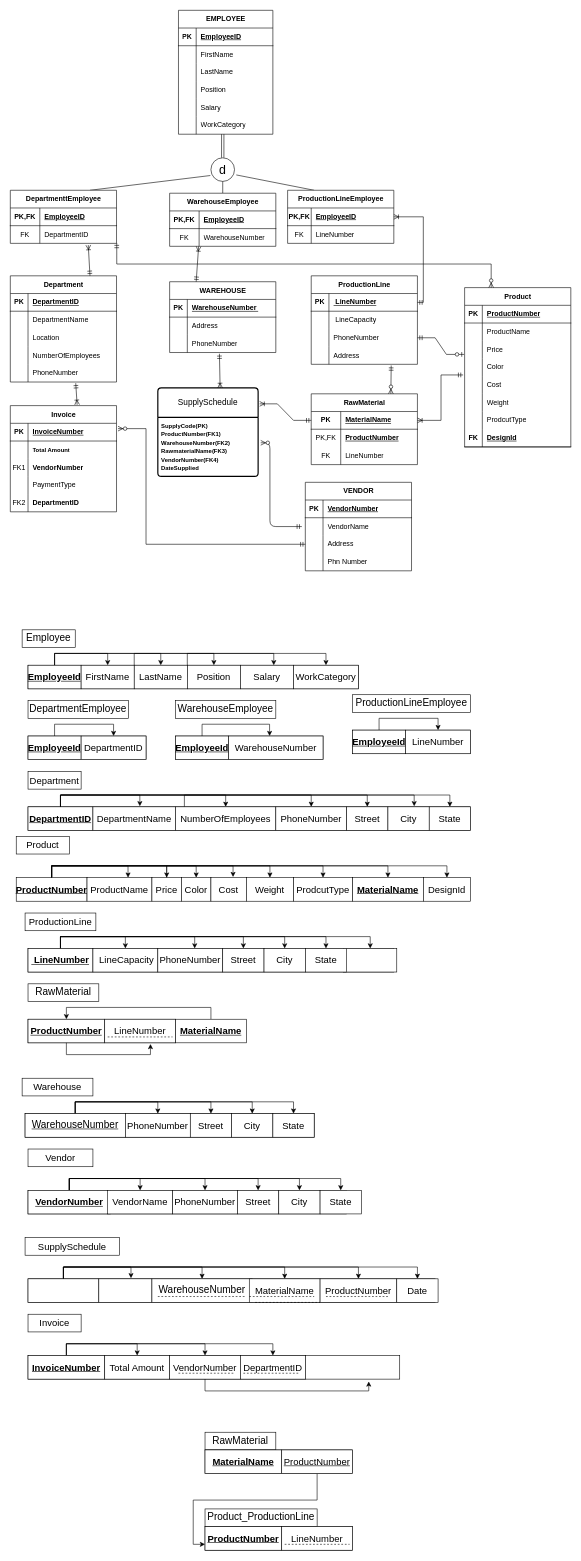
This 581x1561 diagram has some shape labels left out. Each missing label, with the centre of its shape:
SupplyCode: the point at 63,1290
VendorId: the point at 125,1290
VendorPaymentType: the point at 352,1367
Zipcode: the point at 370,960
